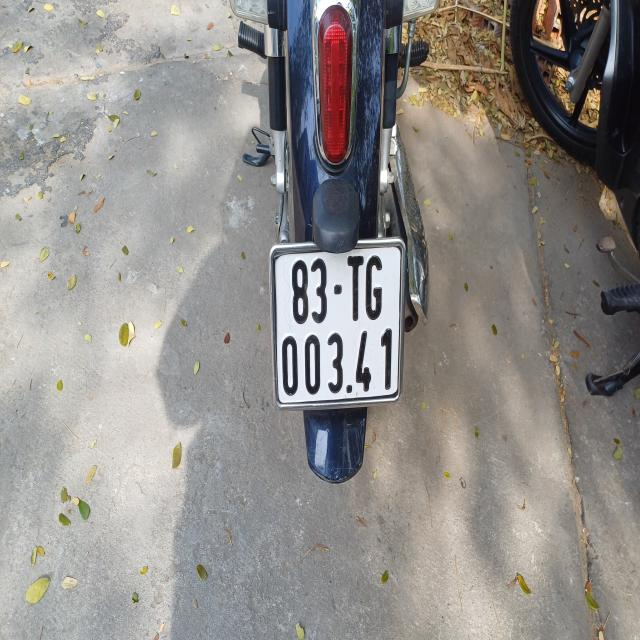0: (281, 337, 300, 396), (305, 330, 321, 396)
1: (379, 326, 393, 392)
3: (309, 255, 328, 325), (326, 332, 344, 395)
4: (351, 328, 372, 392)
8: (290, 257, 310, 328)
G: (365, 253, 385, 320)
T: (346, 253, 364, 324)
